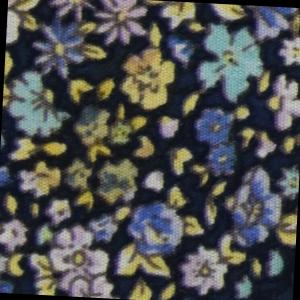Stain: (10, 74, 165, 218)
